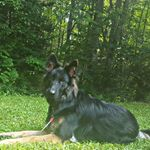puppy: (38, 48, 88, 144)
